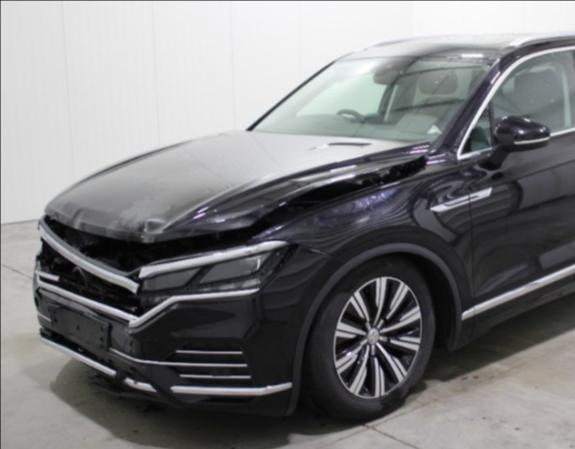Broken part: (39, 141, 429, 277), (33, 285, 187, 410), (31, 219, 138, 320), (256, 238, 343, 297)
Dent: (50, 203, 87, 230), (138, 220, 163, 243)
Missing part: (49, 305, 108, 349)
